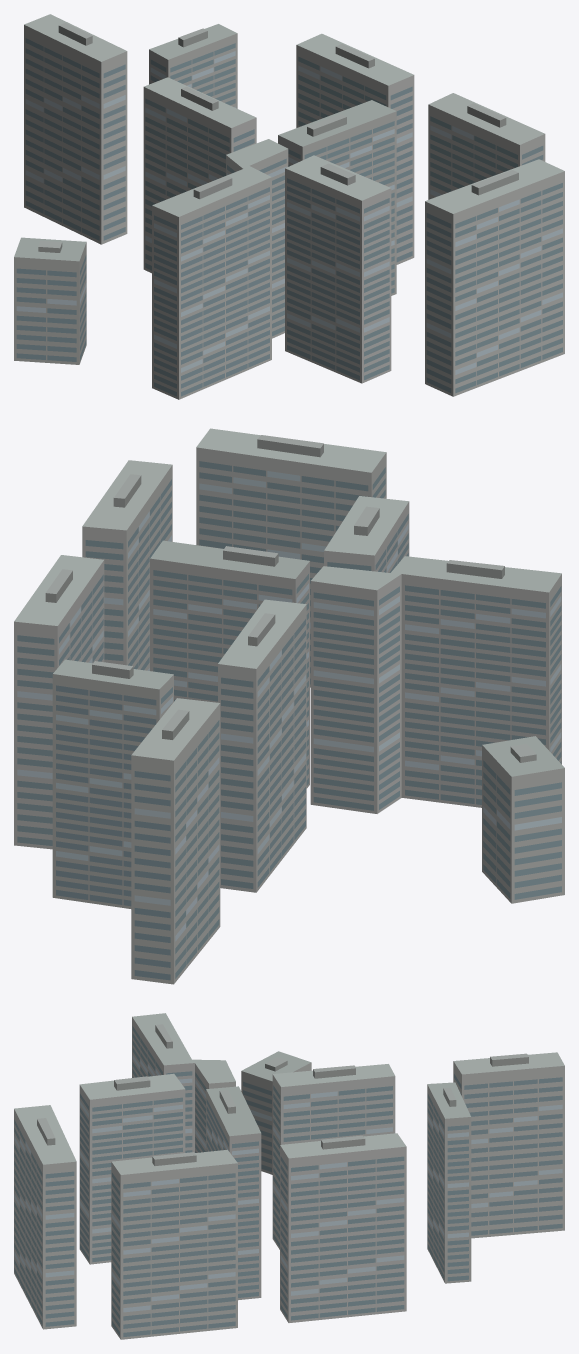
The model's file is apt-a13372102.glb.
3 renders of one model, top to bottom at view 1: azimuth 30°, elevation 25°; view 2: azimuth 150°, elevation 25°; view 3: azimuth 270°, elevation 25°, orthographic. The views are drawn at different scales.
Parts seen in each view (by area): view 1: apt-a13372102; view 2: apt-a13372102; view 3: apt-a13372102.
Boxes of the visible parts, box(x1,y1,x2,y2) form: apt-a13372102: box(14, 14, 564, 399); apt-a13372102: box(14, 428, 564, 984); apt-a13372102: box(14, 1013, 564, 1339).
Size of the model in its own units: 154 by 63 by 184.
